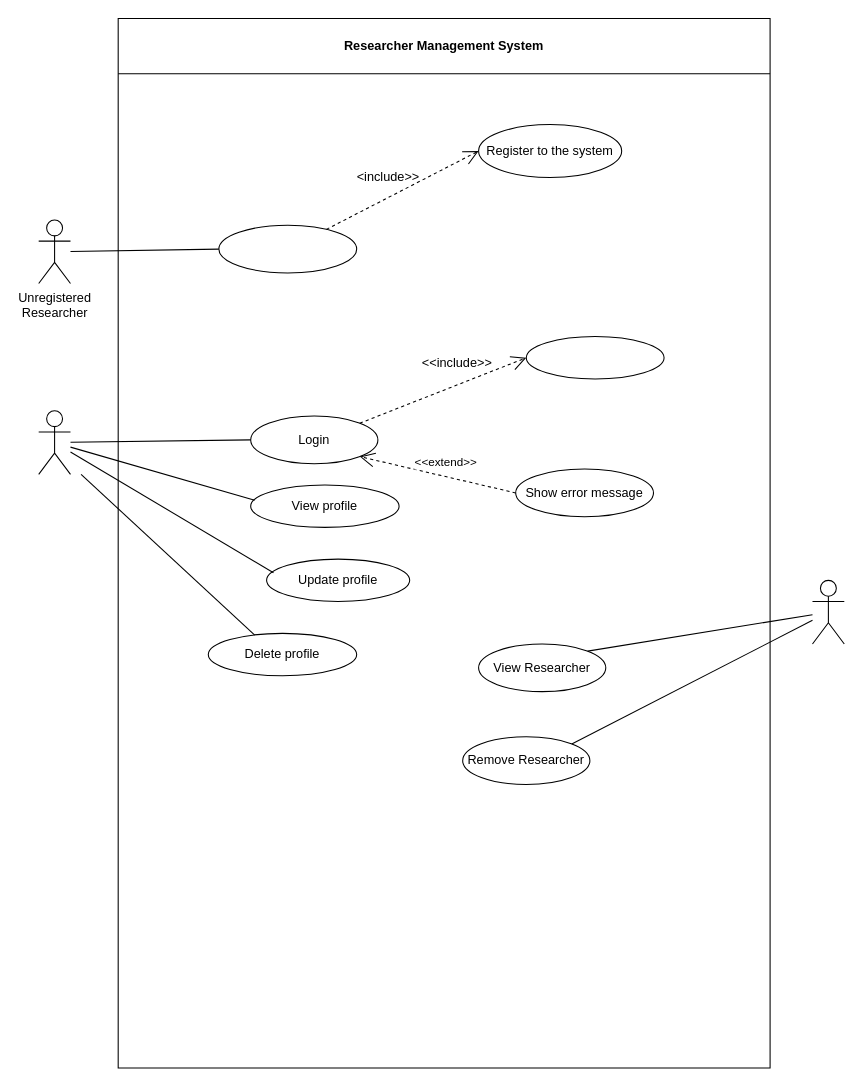
The diagram is 865 pixels wide and 1087 high, and some of its shapes have lost their labels. Here are the shapes that lost their labels. From the top down, the box of each, then its label:
(218, 224, 357, 273): View the site
(525, 335, 664, 379): Validate login credentials
(38, 410, 70, 474): Registered Researcher
(811, 579, 844, 644): Admin
